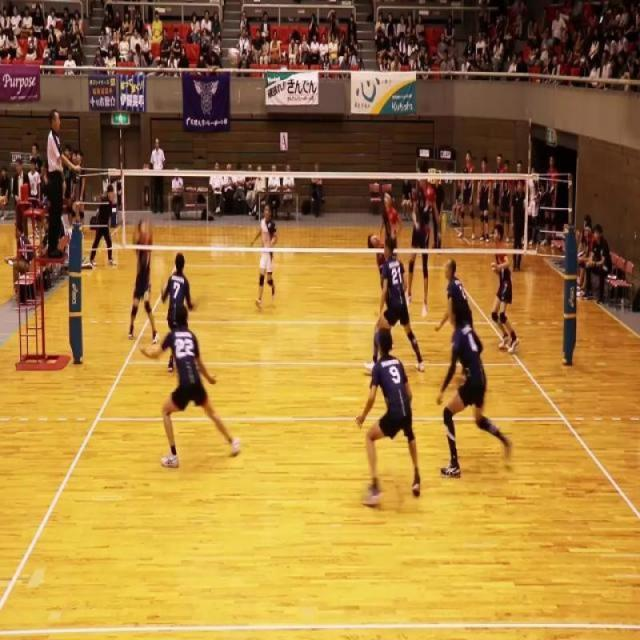volleyball: (228, 46, 241, 66)
